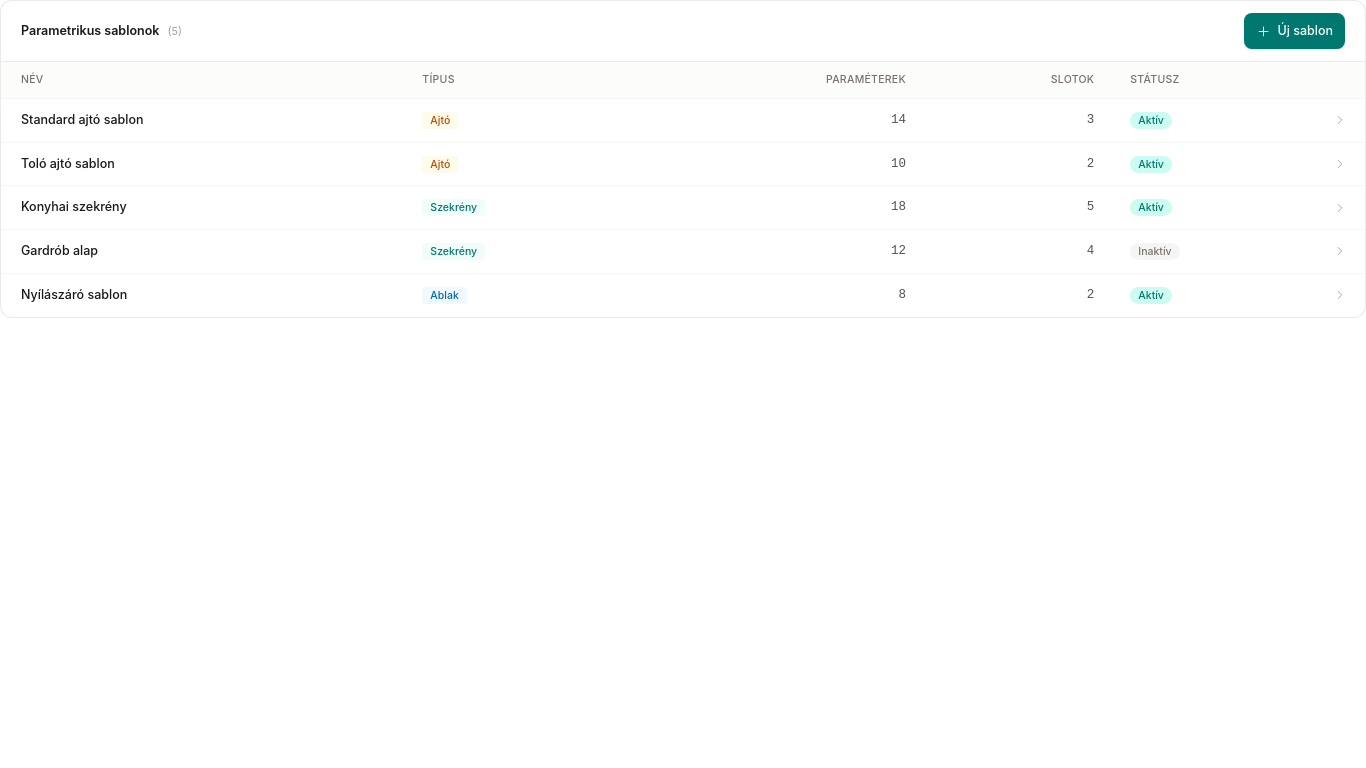
Scenario: TemplatesPanel › closing detail SlideOver removes it
The image size is (1366, 768).
Click the text "Standard ajtó sablon".
click(82, 119)  # box [1,98,406,142]
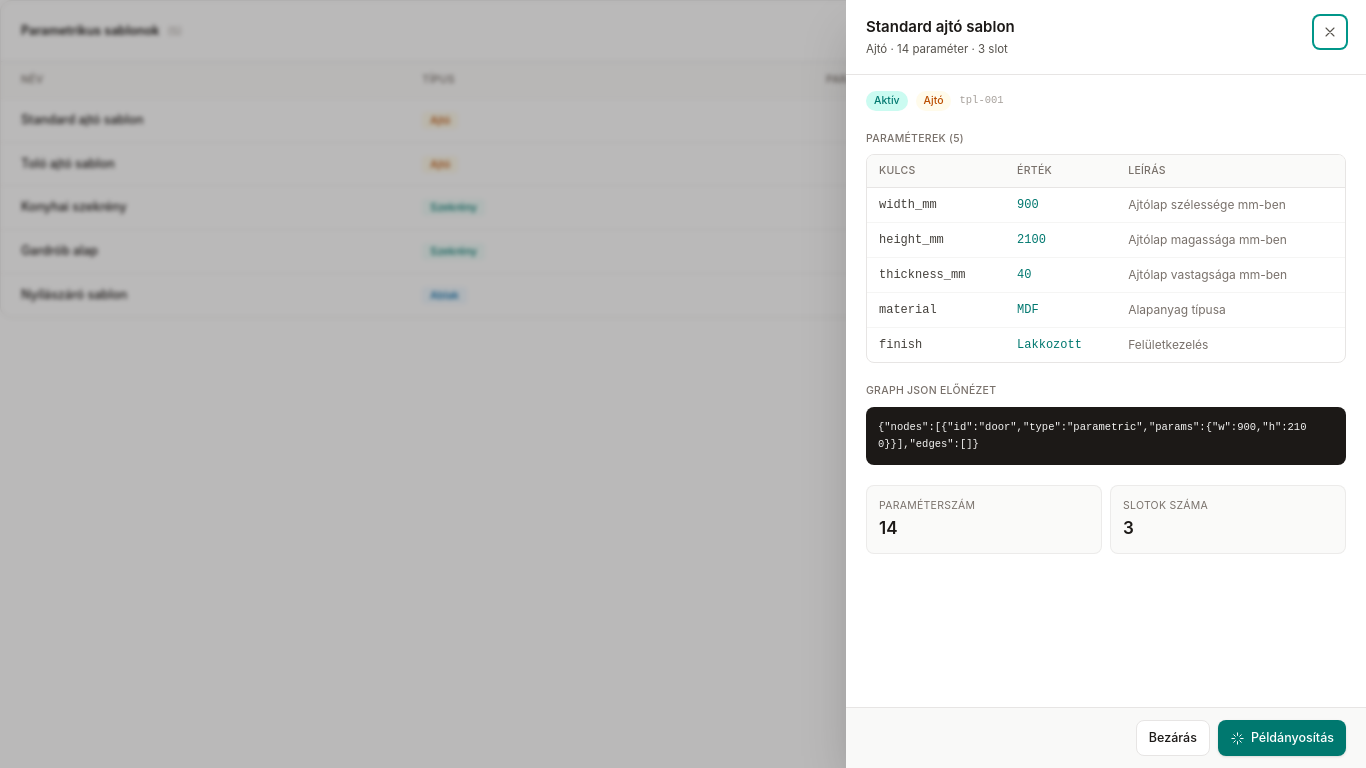
Now the button "Bezárás" is shown
Click the button "Bezárás".
click(1173, 738)  # box [1136,720,1210,756]
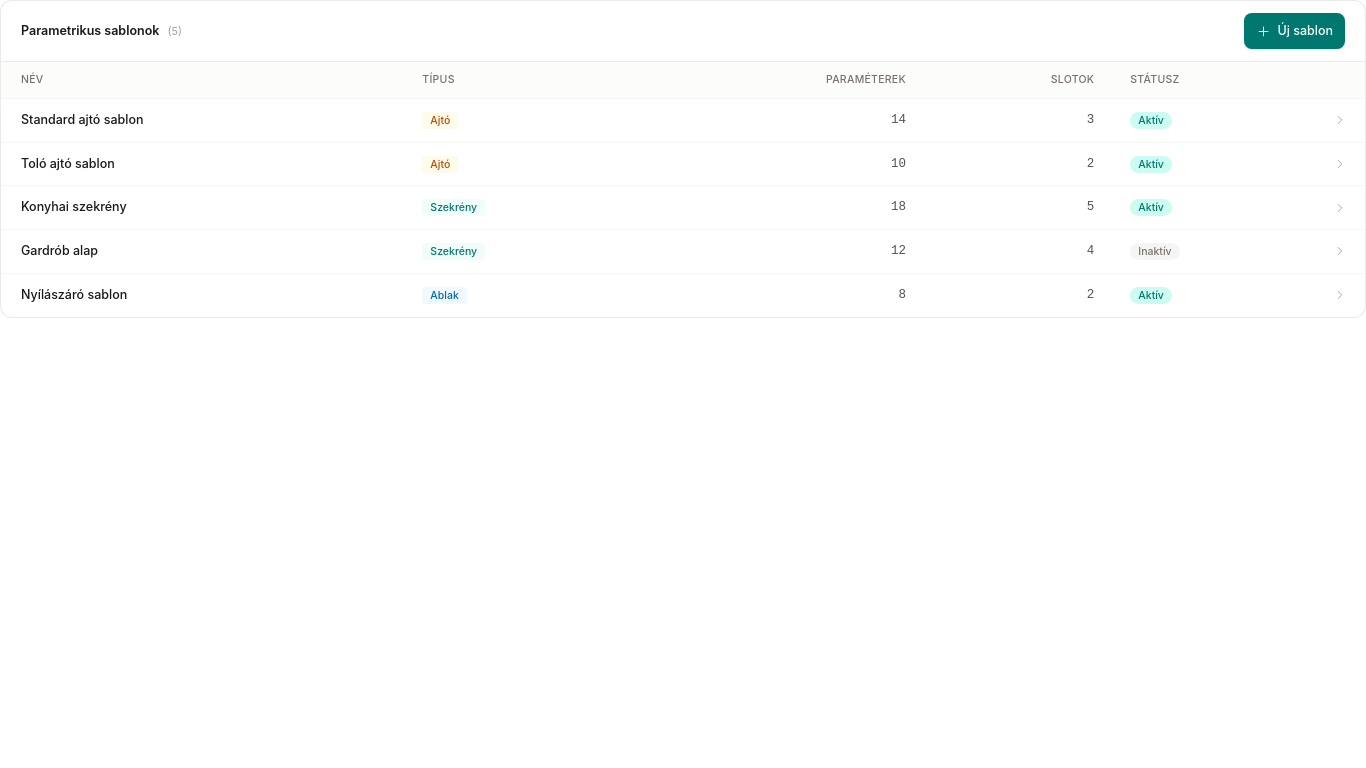
Now the text "Paraméterek (5)" is gone
